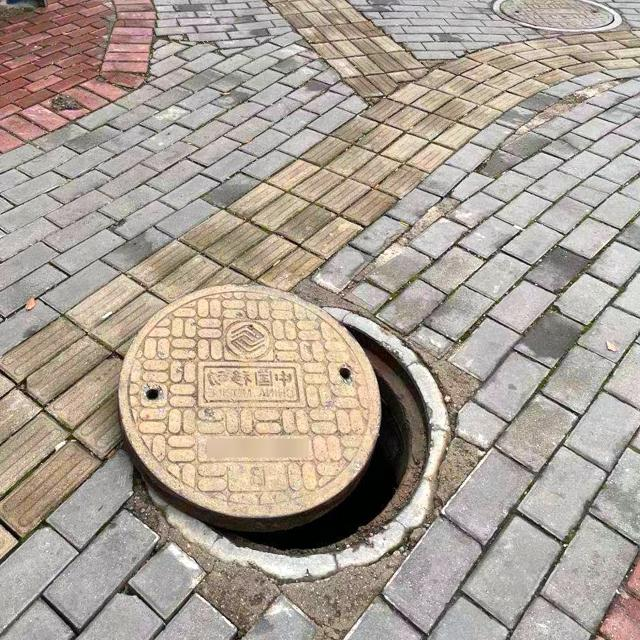uncovered: (117, 283, 451, 579)
